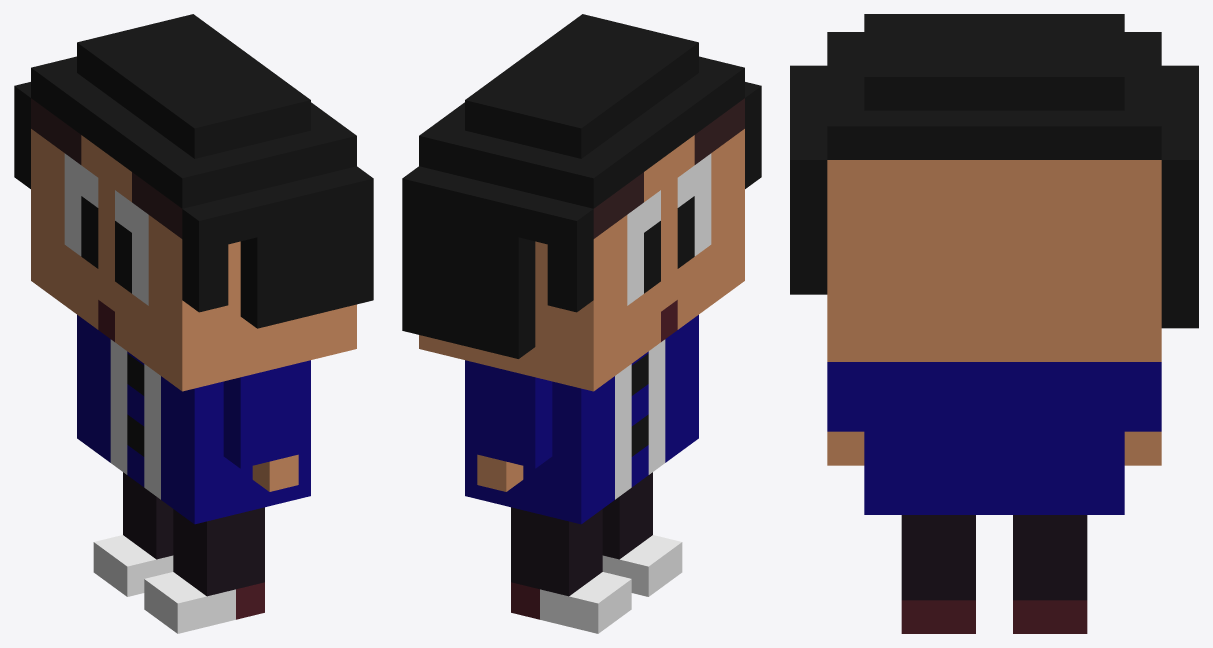
Rendered from Char07.obj.
The picture shows the model from 3 angles, left to right: view 1: azimuth 30°, elevation 25°; view 2: azimuth 150°, elevation 25°; view 3: azimuth 270°, elevation 25°; orthographic projection. The views are drawn at different scales.
Bounding box in the file's own units: 0.6 × 1.7 × 1.1.
Materials: 1 (1 with a texture image).
